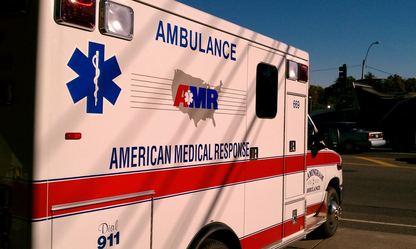ambulance: (0, 0, 347, 249)
